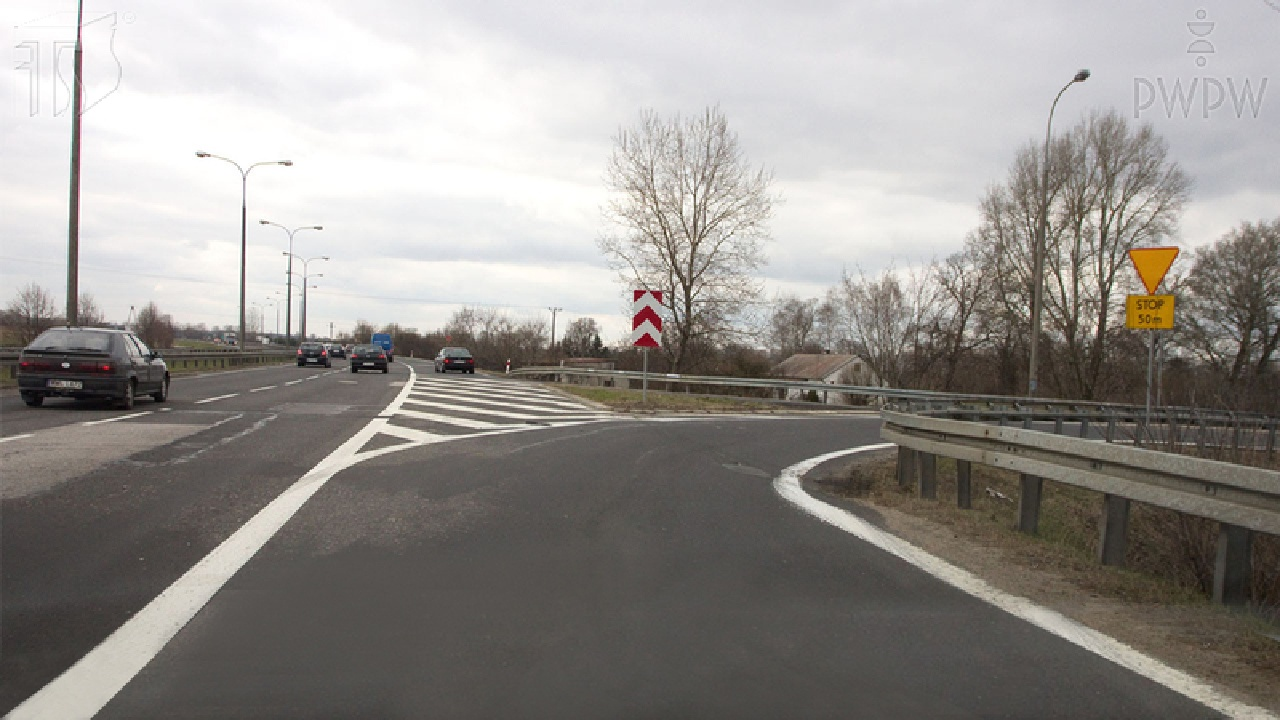A7: (1128, 245, 1180, 294)
